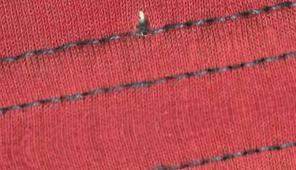hole: (126, 8, 155, 35)
